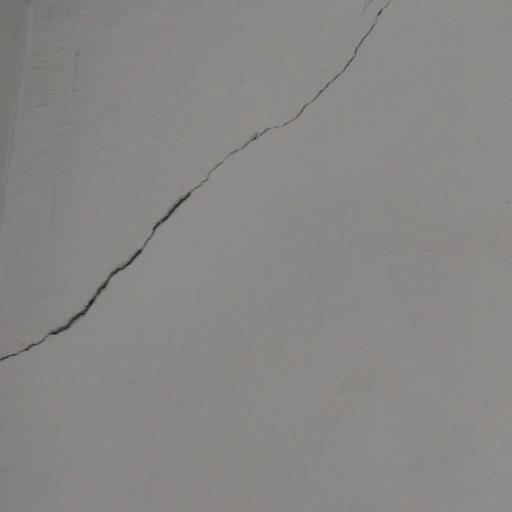major_crack: (0, 0, 392, 371)
